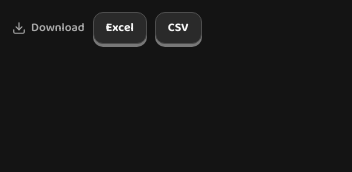
Test: says how many rows it saved
Step 1. Click the button with test id "export-csv" → (178, 28), box [155,12,202,44]
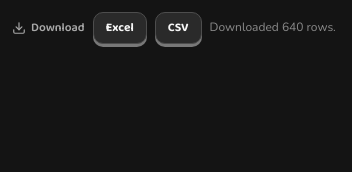
Expected: the text with test id "export-status" shows "640 rows", [210,19,336,35]
